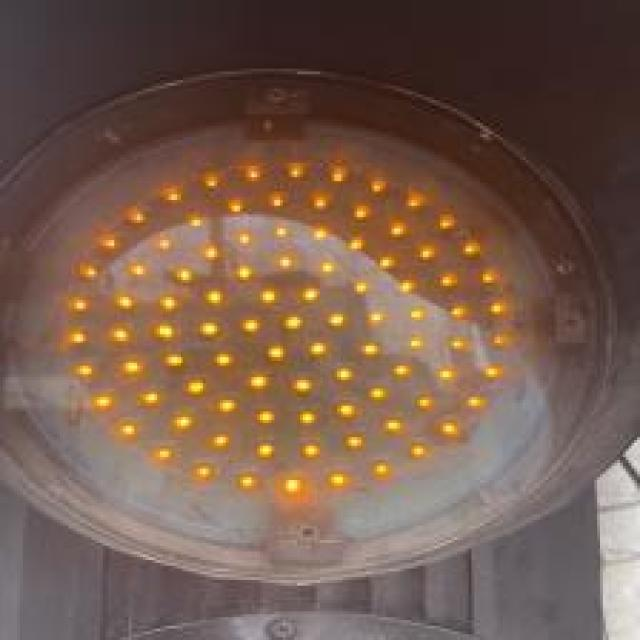yellow-lights: (0, 93, 640, 570)
